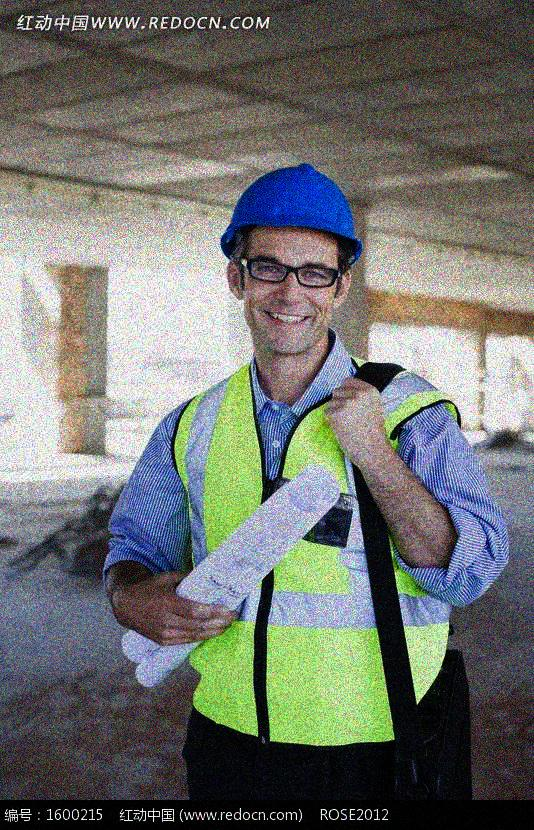helmet: (215, 160, 363, 352)
